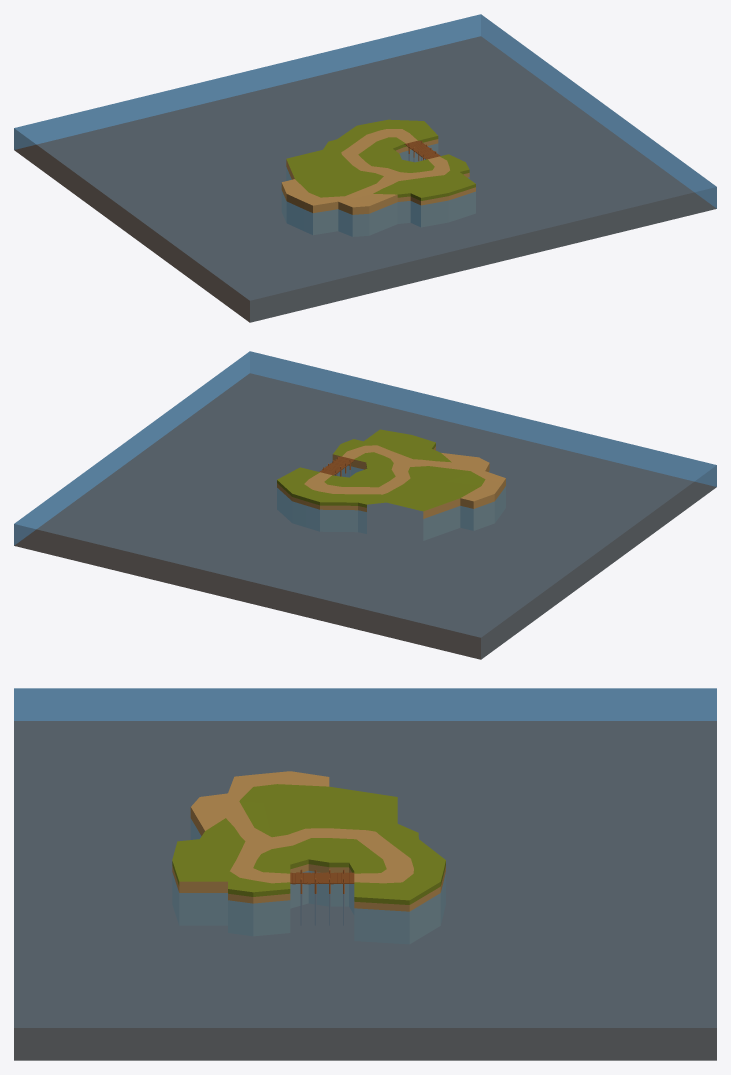
The model's file is Forest.fbx.
3 renders of one model, top to bottom at view 1: azimuth 30°, elevation 25°; view 2: azimuth 150°, elevation 25°; view 3: azimuth 270°, elevation 25°, orthographic. The views are drawn at different scales.
Visible parts, largest first — view 1: Куб.004; view 2: Куб.004; view 3: Куб.004.
Part boxes in pixels (box(x1,y1,x2,y2)): Куб.004: box(14, 14, 716, 322); Куб.004: box(14, 351, 716, 659); Куб.004: box(14, 688, 716, 1060).
Size of the model in its own units: 2300 by 153 by 2012.
